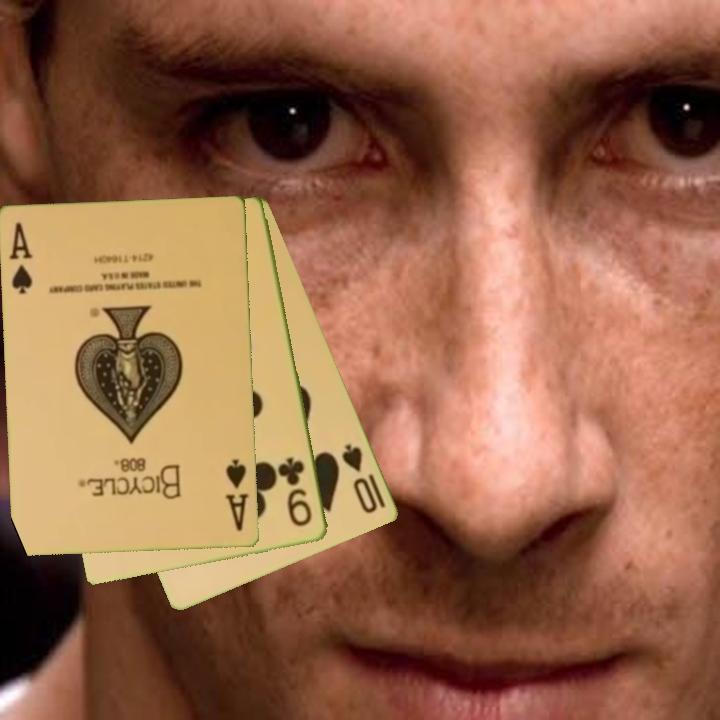10s: (339, 440, 381, 517)
9c: (278, 454, 316, 530)
As: (221, 456, 252, 534), (6, 219, 36, 297)
